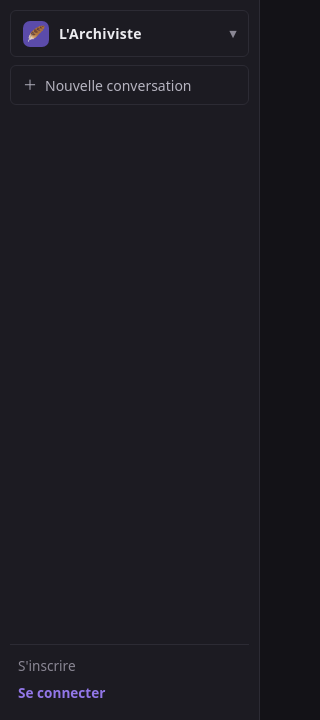
Scenario: SidebarShell — brand popover › closes the popover when the brand button is clicked again
The image size is (320, 720).
Click the button "🪶 L'Archiviste ▾".
click(130, 34)  # box [10,10,249,57]
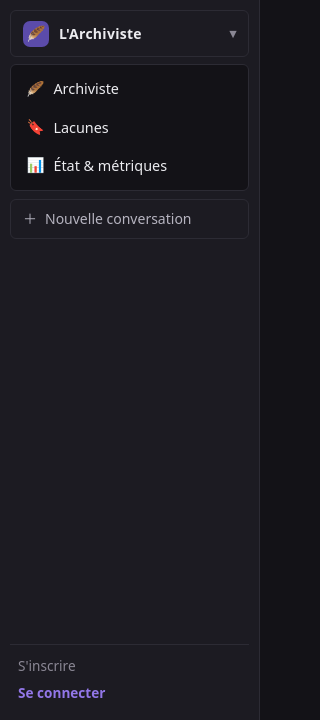
expect the link "🔖 Lacunes" is shown: met, box [26,117,109,137]
Click the button "🪶 L'Archiviste ▾".
click(130, 34)  # box [10,10,249,57]
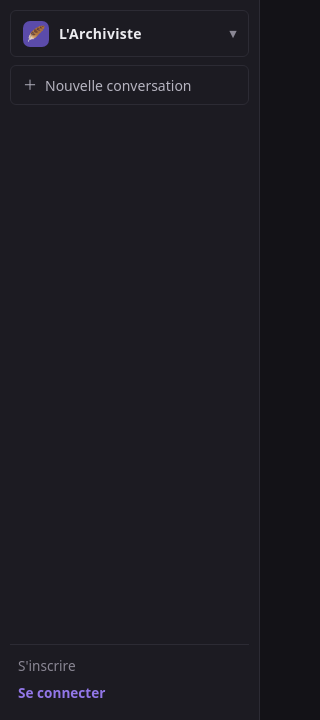
expect the link "Lacunes" is gone: met
